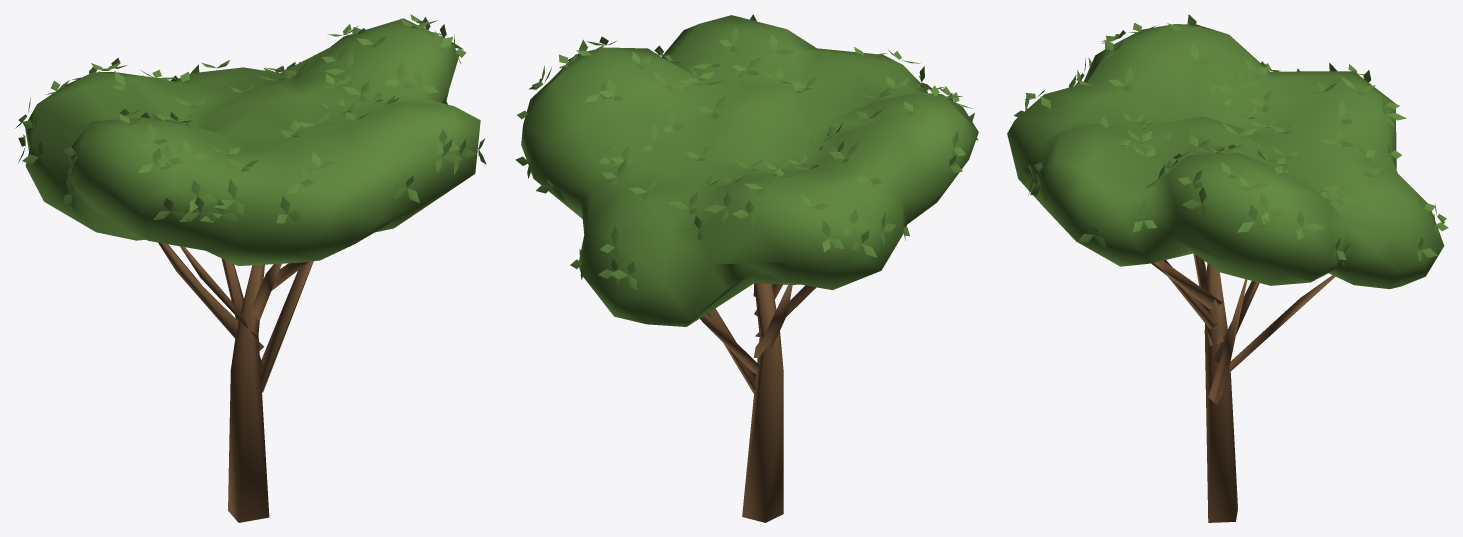
File: tropical-a-light.glb
3 renders of one model, left to right at view 1: azimuth 30°, elevation 25°; view 2: azimuth 150°, elevation 25°; view 3: azimuth 270°, elevation 25°, orthographic. The views are drawn at different scales.
Parts seen in each view (by area): view 1: tropical-a.001; view 2: tropical-a.001; view 3: tropical-a.001.
Part boxes in pixels (x1,y1,x2,y2): tropical-a.001: (15, 14, 486, 522); tropical-a.001: (515, 14, 978, 522); tropical-a.001: (1007, 14, 1448, 522).
Bounding box in the file's own units: 1.93 × 1.98 × 1.84.
